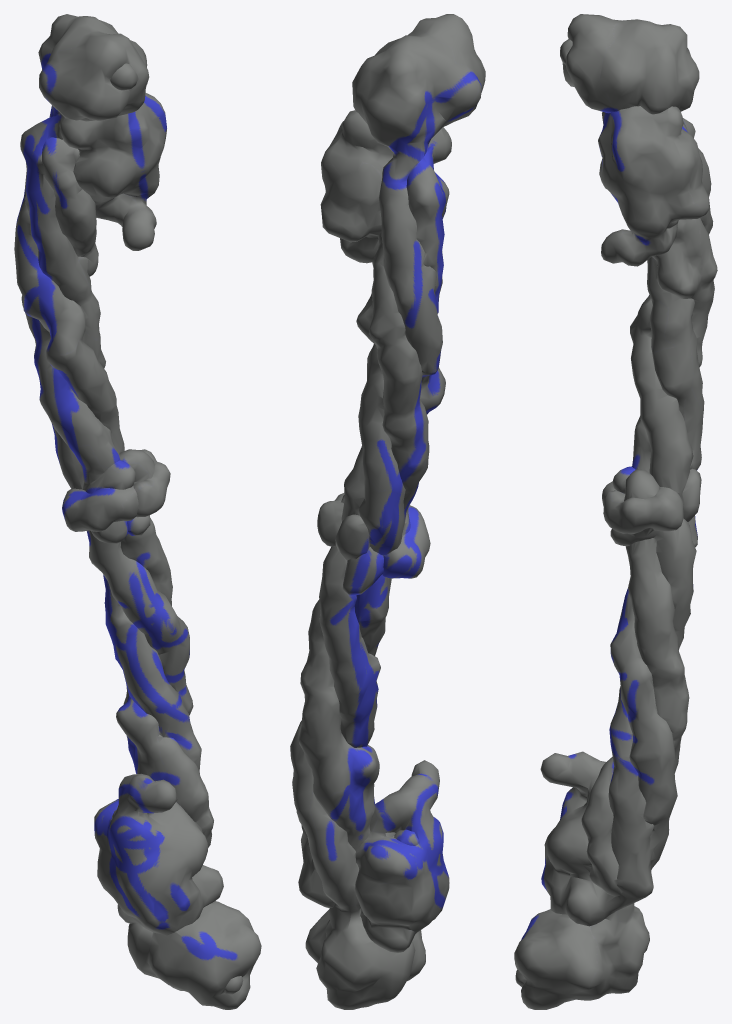
File: Fibrinogen.fbx
The picture shows the model from 3 angles, left to right: view 1: azimuth 30°, elevation 25°; view 2: azimuth 150°, elevation 25°; view 3: azimuth 270°, elevation 25°; orthographic projection. The views are drawn at different scales.
Parts seen in each view (by area): view 1: node_id4; view 2: node_id4; view 3: node_id4.
Part boxes in pixels (x1,y1,x2,y2): node_id4: (14, 14, 261, 1009); node_id4: (290, 14, 485, 1009); node_id4: (514, 14, 717, 1009).
Size of the model in its own units: 0.138 by 0.6922 by 0.1344.
1 material, 1 textured.
